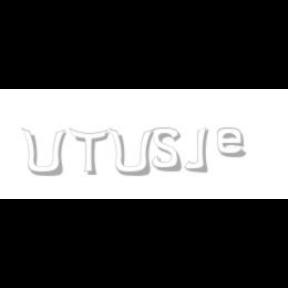J: (184, 128, 208, 172)
S: (152, 128, 182, 172)
T: (69, 128, 109, 176)
U: (20, 128, 66, 178), (108, 128, 154, 178)
e: (218, 128, 250, 158)
